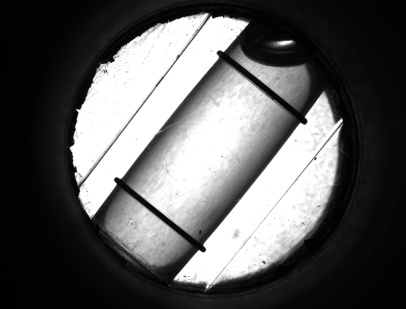line: (124, 193, 193, 234), (237, 74, 294, 104)
